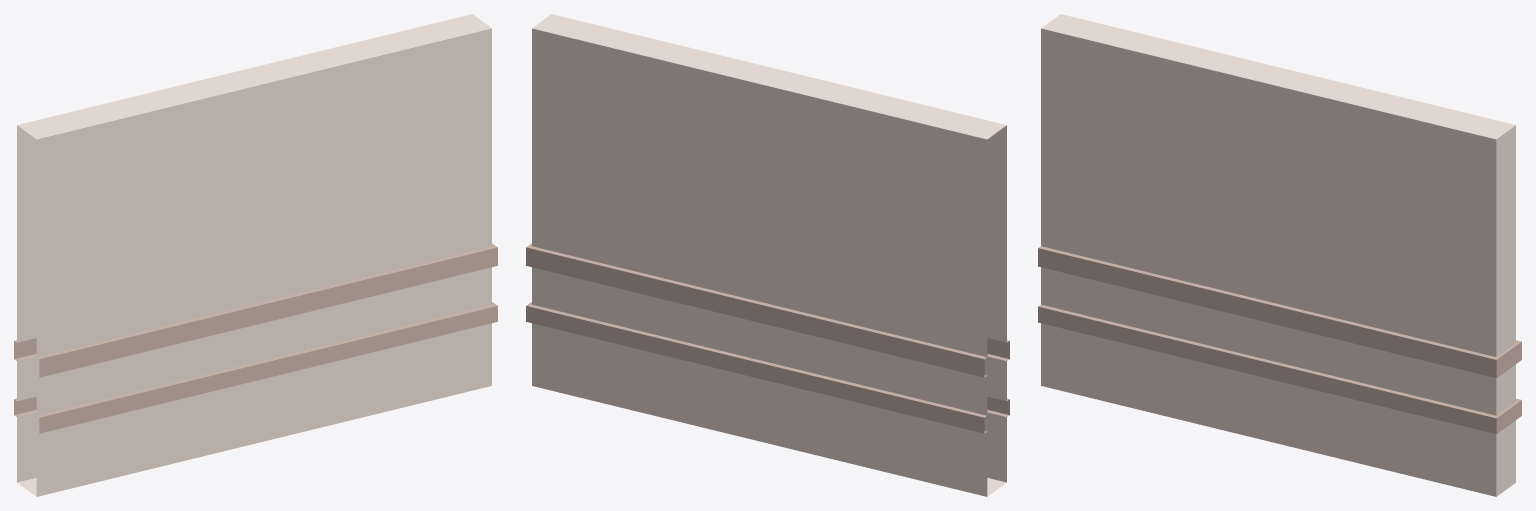
File: Wall_Segment_0.2x3x4.fbx
3 views of the same model, side by side, from view 1: azimuth 30°, elevation 25°; view 2: azimuth 150°, elevation 25°; view 3: azimuth 330°, elevation 25° (orthographic).
Visible parts, largest first — view 1: Wall_02_x3_x4_copy; view 2: Wall_02_x3_x4_copy; view 3: Wall_02_x3_x4_copy.
Boxes of the visible parts, <box> form: Wall_02_x3_x4_copy: <box>14,14,497,496</box>; Wall_02_x3_x4_copy: <box>526,14,1009,496</box>; Wall_02_x3_x4_copy: <box>1038,14,1521,496</box>.
Bounding box in the file's own units: 403 × 300 × 38.4.
